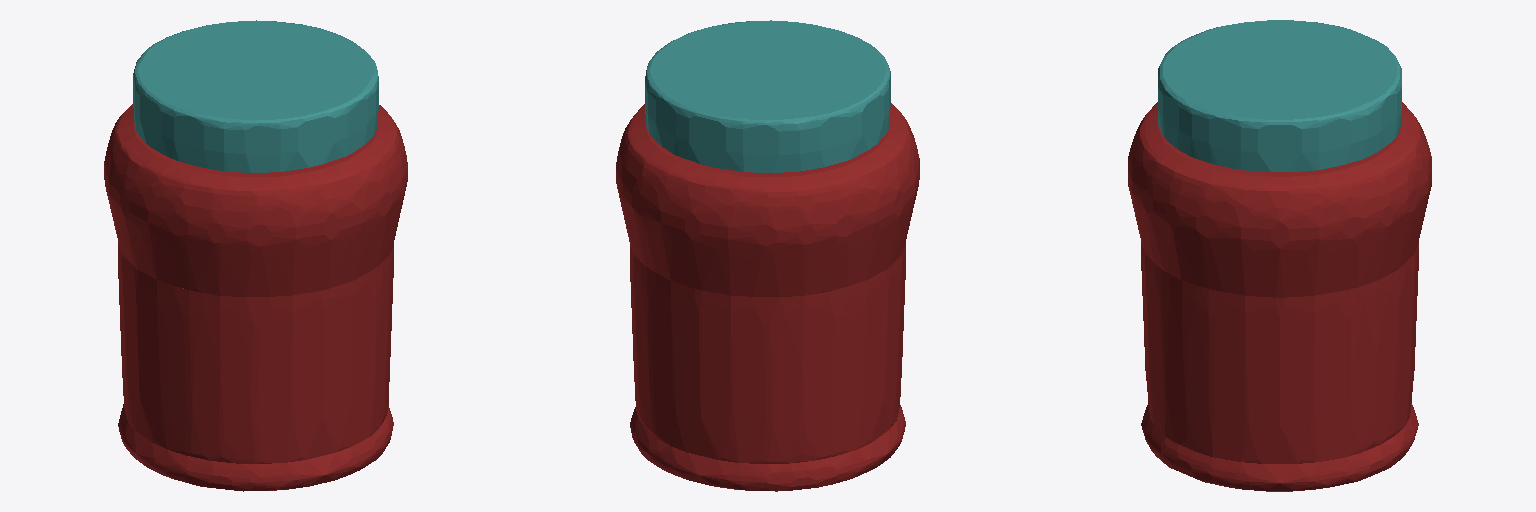
robot.urdf — root:
<robot name="root">
  <link name="bottle_body">
    <inertial>
      <origin xyz="0 0 0" rpy="0 0 0"/>
    </inertial>
    <mass value="1.00E-02"/>
    <visual>
      <origin xyz="0 0 0" rpy="0 0 0"/>
      <geometry>
        <mesh filename="core-bottle-1a7ba1f4c892e2da30711cdbdbc73924-coacd_convex_piece_3.obj" scale="1.0000E-01 1.0000E-01 1.0000E-01"/>
      </geometry>
      <material name="">
        <color rgba="6.00E-01 2.00E-01 2.00E-01 1"/>
      </material>
    </visual>
    <collision>
      <origin xyz="0 0 0" rpy="0 0 0"/>
      <geometry>
        <mesh filename="core-bottle-1a7ba1f4c892e2da30711cdbdbc73924-coacd_convex_piece_3.obj" scale="1.0000E-01 1.0000E-01 1.0000E-01"/>
      </geometry>
    </collision>
    <visual>
      <origin xyz="0 0 0" rpy="0 0 0"/>
      <geometry>
        <mesh filename="core-bottle-1a7ba1f4c892e2da30711cdbdbc73924-coacd_convex_piece_1.obj" scale="1.0000E-01 1.0000E-01 1.0000E-01"/>
      </geometry>
      <material name="">
        <color rgba="6.00E-01 2.00E-01 2.00E-01 1"/>
      </material>
    </visual>
    <collision>
      <origin xyz="0 0 0" rpy="0 0 0"/>
      <geometry>
        <mesh filename="core-bottle-1a7ba1f4c892e2da30711cdbdbc73924-coacd_convex_piece_1.obj" scale="1.0000E-01 1.0000E-01 1.0000E-01"/>
      </geometry>
    </collision>
    <visual>
      <origin xyz="0 0 0" rpy="0 0 0"/>
      <geometry>
        <mesh filename="core-bottle-1a7ba1f4c892e2da30711cdbdbc73924-coacd_convex_piece_2.obj" scale="1.0000E-01 1.0000E-01 1.0000E-01"/>
      </geometry>
      <material name="">
        <color rgba="6.00E-01 2.00E-01 2.00E-01 1"/>
      </material>
    </visual>
    <collision>
      <origin xyz="0 0 0" rpy="0 0 0"/>
      <geometry>
        <mesh filename="core-bottle-1a7ba1f4c892e2da30711cdbdbc73924-coacd_convex_piece_2.obj" scale="1.0000E-01 1.0000E-01 1.0000E-01"/>
      </geometry>
    </collision>
  </link>
  <link name="bottle_cap">
    <origin xyz="0 0 0.002" rpy="0 0 0"/>
    <mass value="1.00E-02"/>
    <visual>
      <origin xyz="0 0 0.002" rpy="0 0 0"/>
      <geometry>
        <mesh filename="core-bottle-1a7ba1f4c892e2da30711cdbdbc73924-coacd_convex_piece_0.obj" scale="1.0000E-01 1.0000E-01 1.0000E-01"/>
      </geometry>
      <material name="">
        <color rgba="3.00E-01 6.00E-01 6.00E-01 1"/>
      </material>
    </visual>
    <collision>
      <origin xyz="0 0 0.002" rpy="0 0 0"/>
      <geometry>
        <mesh filename="core-bottle-1a7ba1f4c892e2da30711cdbdbc73924-coacd_convex_piece_0.obj" scale="1.0000E-01 1.0000E-01 1.0000E-01"/>
      </geometry>
    </collision>
  </link>
  <joint name="bottle_cap_joint" type="revolute">
    <origin xyz="0 0 0" rpy="0 0 0"/>
    <parent link="bottle_body"/>
    <child link="bottle_cap"/>
    <axis xyz="0 0 1"/>
    <limit lower="0.00" upper="6.28"/>
    <dynamics damping="0.05"/>
  </joint>
</robot>

--- Facts derived from the render (not from the file) ---
The picture shows the robot from 3 angles, left to right: view 1: azimuth 30°, elevation 25°; view 2: azimuth 150°, elevation 25°; view 3: azimuth 270°, elevation 25°; orthographic projection.
Model root with 2 links and 1 joints (1 revolute), rooted at bottle_body, posed every joint at zero.
Visible links, largest first — view 1: bottle_body, bottle_cap; view 2: bottle_body, bottle_cap; view 3: bottle_body, bottle_cap.
Link boxes in pixels (x1=…): bottle_body: x1=104, y1=104, x2=407, y2=491; bottle_cap: x1=133, y1=20, x2=378, y2=172; bottle_body: x1=616, y1=103, x2=919, y2=491; bottle_cap: x1=645, y1=20, x2=890, y2=172; bottle_body: x1=1128, y1=102, x2=1431, y2=491; bottle_cap: x1=1158, y1=20, x2=1401, y2=171.
Bounding box of the posed robot: 0.1248 × 0.1248 × 0.1661 m (x, y, z).
Meshes: 4 distinct files referenced, 4 mesh visuals loaded (4 OBJ).